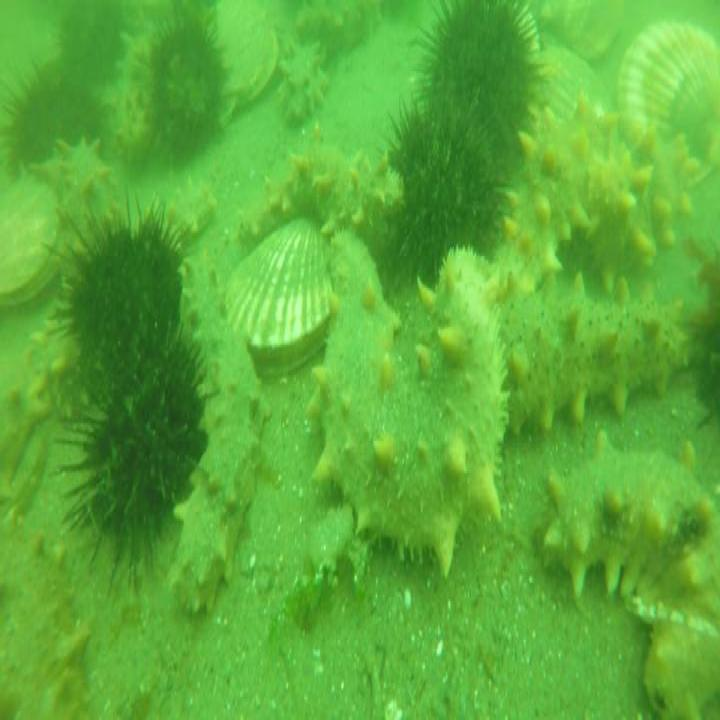echinus: (56, 331, 213, 592), (41, 195, 196, 396), (405, 0, 549, 181), (381, 85, 511, 283), (1, 55, 105, 187), (141, 7, 225, 162), (676, 228, 720, 418), (50, 0, 130, 94)
holothurian: (316, 222, 509, 571), (539, 425, 720, 720), (482, 89, 703, 300), (178, 257, 270, 612), (497, 278, 697, 430), (2, 380, 91, 720), (237, 134, 401, 262), (40, 134, 125, 286), (112, 2, 163, 170), (279, 28, 332, 122)
scallop: (223, 217, 332, 384), (616, 16, 720, 190), (0, 170, 69, 314), (214, 0, 279, 112), (520, 41, 605, 123)
